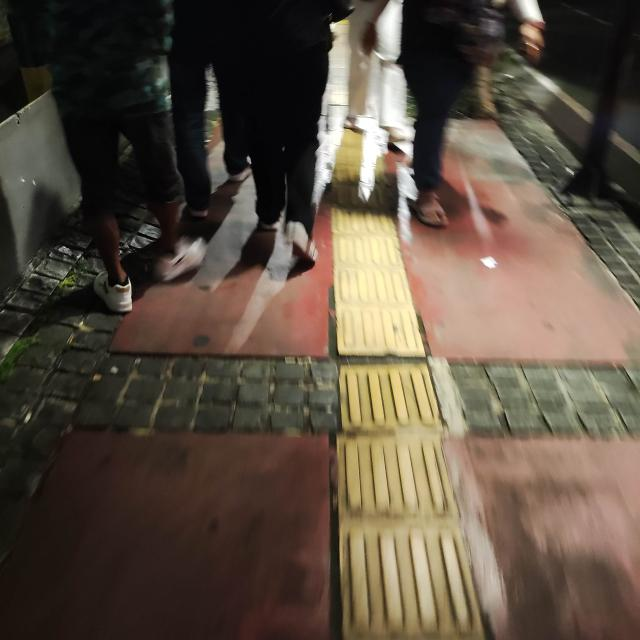lurus: (319, 212, 471, 640)
